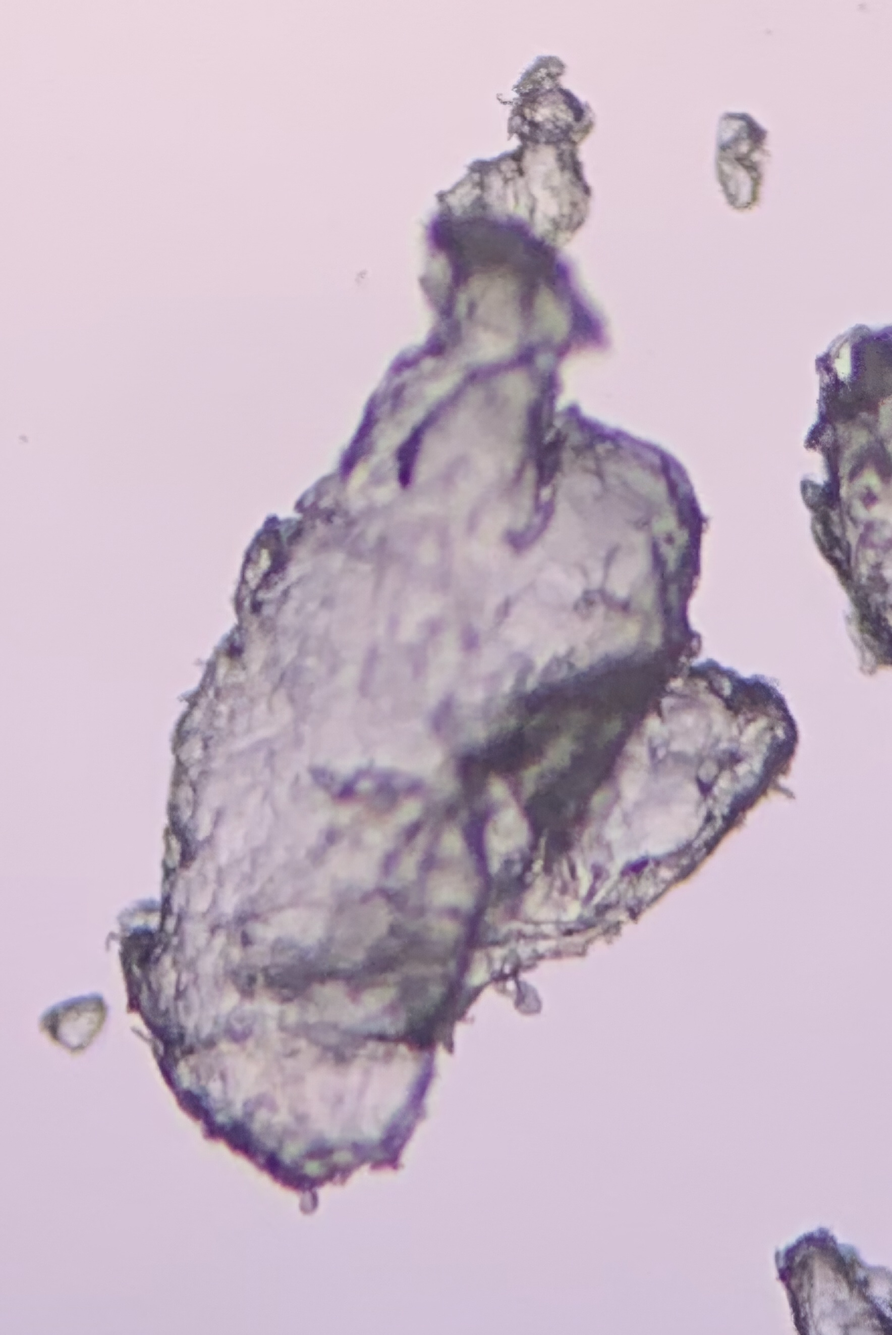microplastic: (104, 55, 804, 1219), (800, 323, 892, 676), (771, 1223, 892, 1335), (714, 106, 772, 212), (37, 991, 110, 1055)
